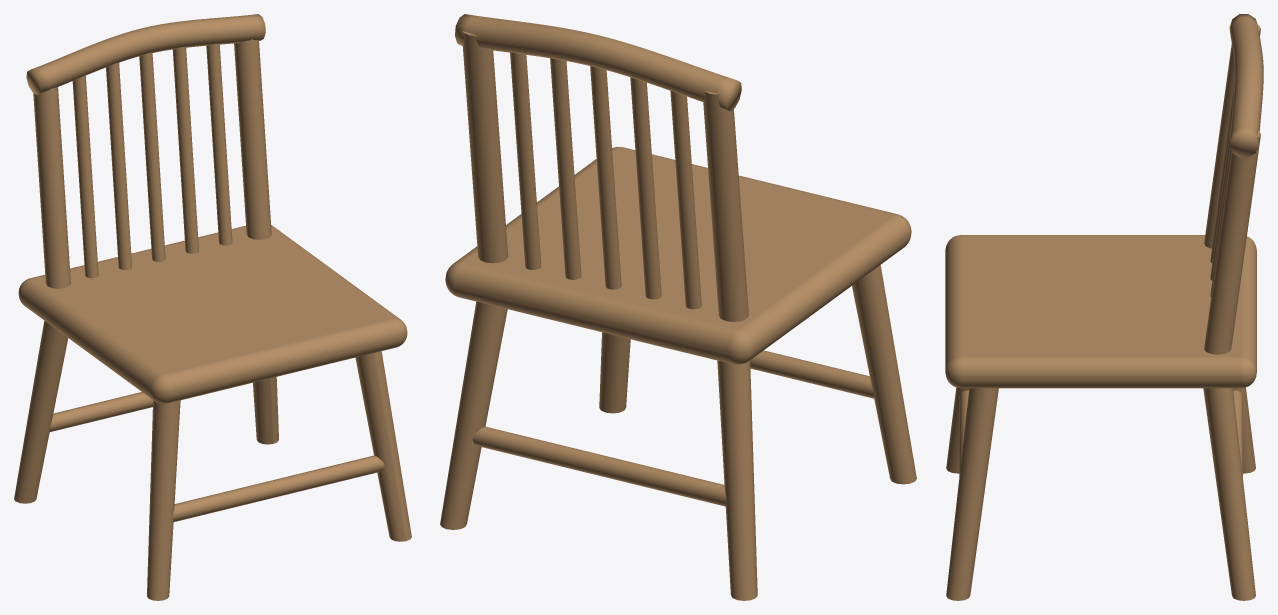
File: spindlechair.glb
3 views of the same model, side by side, from view 1: azimuth 30°, elevation 25°; view 2: azimuth 150°, elevation 25°; view 3: azimuth 270°, elevation 25° (orthographic). The views are drawn at different scales.
Visible parts, largest first — view 1: shaped-timber-seat, bowed-crest-rail, back-spindle-0-24, back-spindle--0-24, splayed-leg--1-1, splayed-leg-1-1, splayed-leg--1--1, cross-stretcher-1, back-spindle-0, back-spindle-0-08, back-spindle--0-08, back-spindle-0-16 (+3 smaller); view 2: shaped-timber-seat, bowed-crest-rail, splayed-leg--1--1, back-spindle-0-24, back-spindle--0-24, splayed-leg-1--1, splayed-leg--1-1, cross-stretcher--1, back-spindle-0, back-spindle-0-08, back-spindle--0-08, back-spindle-0-16 (+3 smaller); view 3: shaped-timber-seat, splayed-leg-1-1, splayed-leg-1--1, back-spindle-0-24, bowed-crest-rail, back-spindle--0-24, splayed-leg--1-1, splayed-leg--1--1, cross-stretcher-1, back-spindle--0-16, cross-stretcher--1, back-spindle--0-08.
Boxes of the visible parts, bbox=[...] form: shaped-timber-seat: bbox=[18, 225, 407, 403]; bowed-crest-rail: bbox=[26, 14, 265, 94]; back-spindle-0-24: bbox=[234, 39, 271, 239]; back-spindle--0-24: bbox=[33, 87, 70, 288]; splayed-leg--1-1: bbox=[147, 400, 180, 600]; splayed-leg-1-1: bbox=[355, 351, 411, 541]; splayed-leg--1--1: bbox=[14, 321, 68, 503]; cross-stretcher-1: bbox=[173, 455, 384, 521]; back-spindle-0: bbox=[139, 52, 165, 261]; back-spindle-0-08: bbox=[172, 47, 198, 253]; back-spindle--0-08: bbox=[106, 62, 131, 269]; back-spindle-0-16: bbox=[206, 44, 232, 245]; shaped-timber-seat: bbox=[445, 146, 911, 364]; bowed-crest-rail: bbox=[455, 14, 741, 111]; splayed-leg--1--1: bbox=[717, 360, 757, 600]; back-spindle-0-24: bbox=[462, 31, 508, 263]; back-spindle--0-24: bbox=[703, 91, 748, 321]; splayed-leg-1--1: bbox=[440, 301, 507, 529]; splayed-leg--1-1: bbox=[852, 265, 916, 484]; cross-stretcher--1: bbox=[472, 426, 726, 506]; back-spindle-0: bbox=[590, 66, 621, 289]; back-spindle-0-08: bbox=[550, 58, 581, 279]; back-spindle--0-08: bbox=[630, 77, 661, 299]; back-spindle-0-16: bbox=[510, 52, 541, 269]; shaped-timber-seat: bbox=[945, 235, 1256, 388]; splayed-leg-1-1: bbox=[946, 388, 998, 600]; splayed-leg-1--1: bbox=[1203, 388, 1255, 600]; back-spindle-0-24: bbox=[1204, 131, 1260, 354]; bowed-crest-rail: bbox=[1229, 14, 1263, 157]; back-spindle--0-24: bbox=[1204, 25, 1260, 248]; splayed-leg--1-1: bbox=[946, 387, 969, 473]; splayed-leg--1--1: bbox=[1233, 387, 1255, 473]; cross-stretcher-1: bbox=[959, 390, 968, 476]; back-spindle--0-16: bbox=[1210, 85, 1234, 262]; cross-stretcher--1: bbox=[1233, 390, 1242, 476]; back-spindle--0-08: bbox=[1210, 117, 1231, 280].
Size of the model in its own units: 0.6264 by 1 by 0.613.
